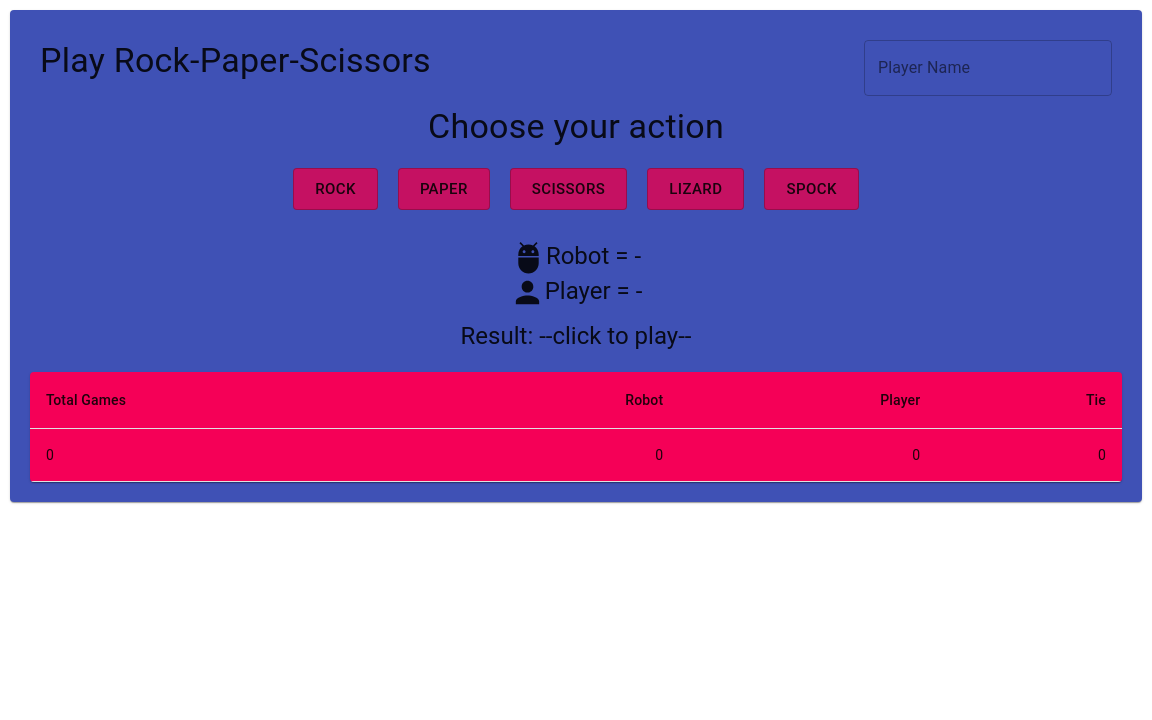
Scenario: The rock button › should be clickable and display ROCK as player's choice
Click the button with test id "ROCKButton": point(336, 189) [293,168,378,210]
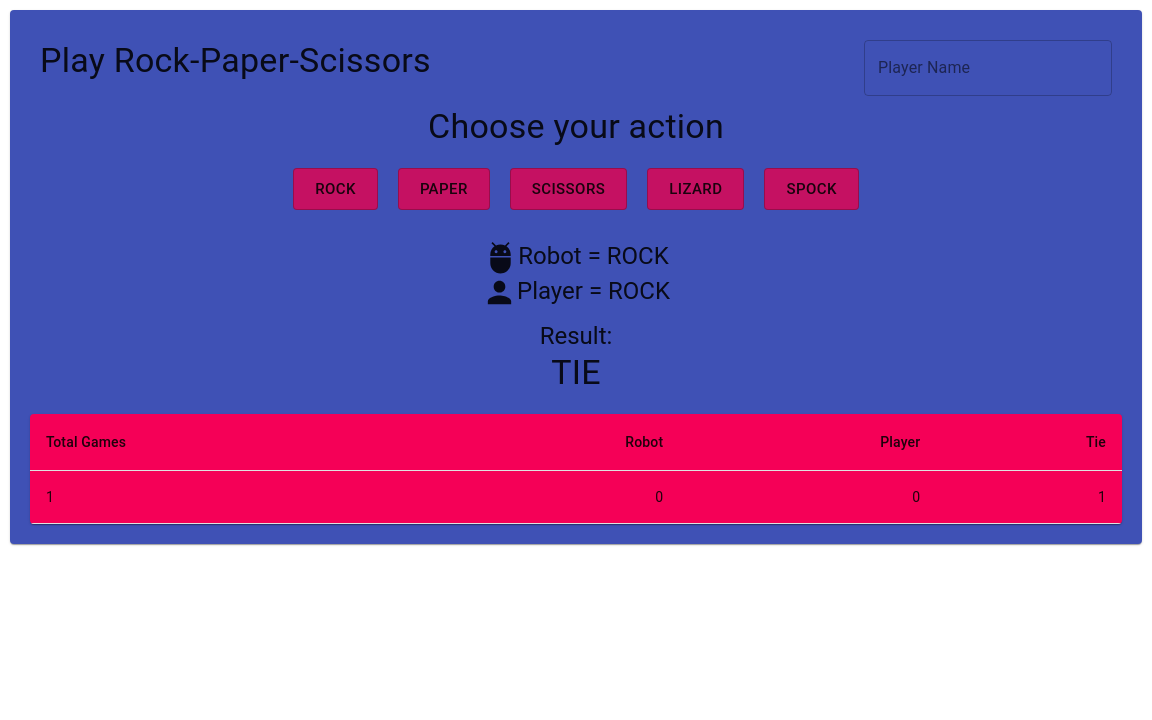
Expected: the heading "Player = ROCK" is shown, [517,275,670,310]
